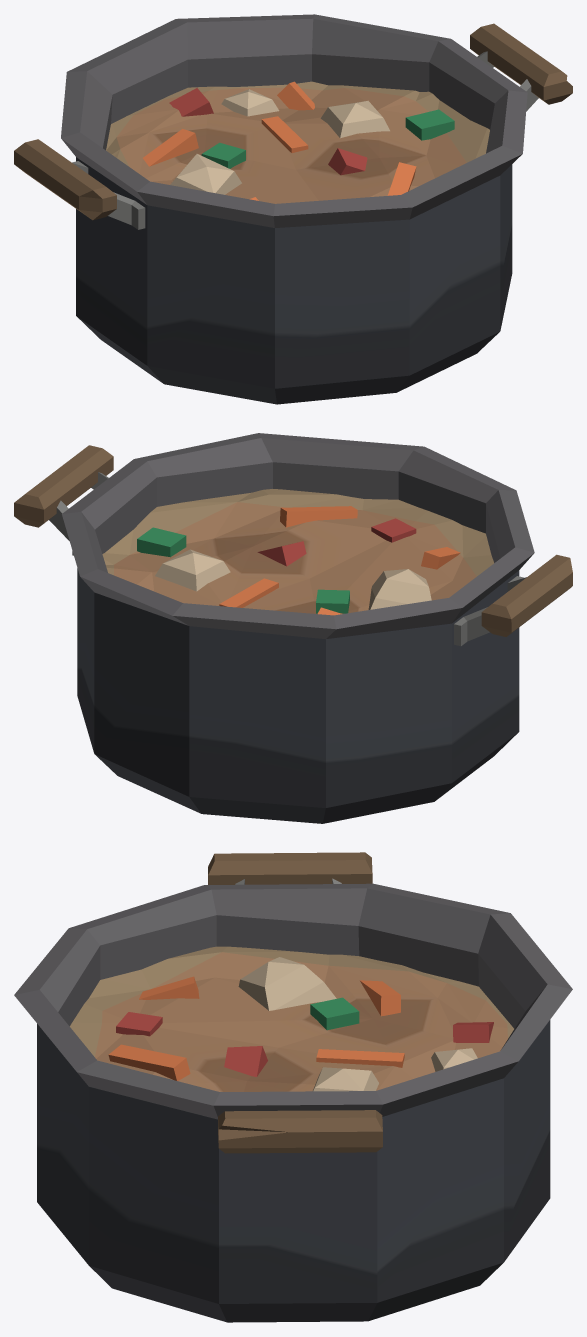
The model's file is SM_Saucepan.fbx.
3 views of the same model, one above another, from view 1: azimuth 30°, elevation 25°; view 2: azimuth 150°, elevation 25°; view 3: azimuth 270°, elevation 25° (orthographic). The views are drawn at different scales.
Visible parts, largest first — view 1: SM_Saucepan, SM_Saucepa_Food; view 2: SM_Saucepan, SM_Saucepa_Food; view 3: SM_Saucepan, SM_Saucepa_Food.
Boxes of the visible parts, x1,y1,x2,y2 form: SM_Saucepan: [14, 14, 572, 404]; SM_Saucepa_Food: [106, 81, 489, 203]; SM_Saucepan: [14, 433, 572, 823]; SM_Saucepa_Food: [102, 489, 493, 615]; SM_Saucepan: [14, 852, 572, 1322]; SM_Saucepa_Food: [70, 946, 513, 1091].
Size of the model in its own units: 51.19 by 21.52 by 43.92.
